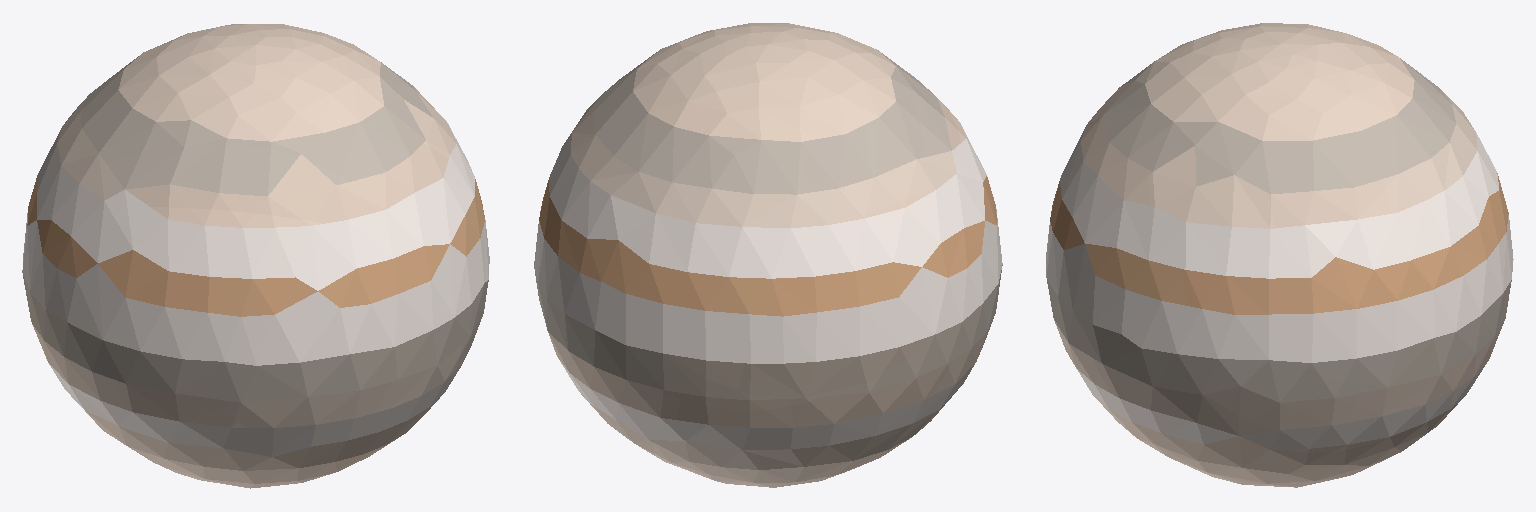
The picture shows the model from 3 angles: view 1: azimuth 30°, elevation 25°; view 2: azimuth 150°, elevation 25°; view 3: azimuth 270°, elevation 25°; orthographic projection.
Visible parts, largest first — view 1: Jupiter_Sphere; view 2: Jupiter_Sphere; view 3: Jupiter_Sphere.
Part boxes in pixels (left/top/right/bottom): Jupiter_Sphere: left=22, top=24, right=489, bottom=488; Jupiter_Sphere: left=534, top=23, right=1002, bottom=487; Jupiter_Sphere: left=1046, top=23, right=1513, bottom=487.
Bounding box in the file's own units: 17 × 16.97 × 16.98.
Materials: 1 (1 with a texture image).